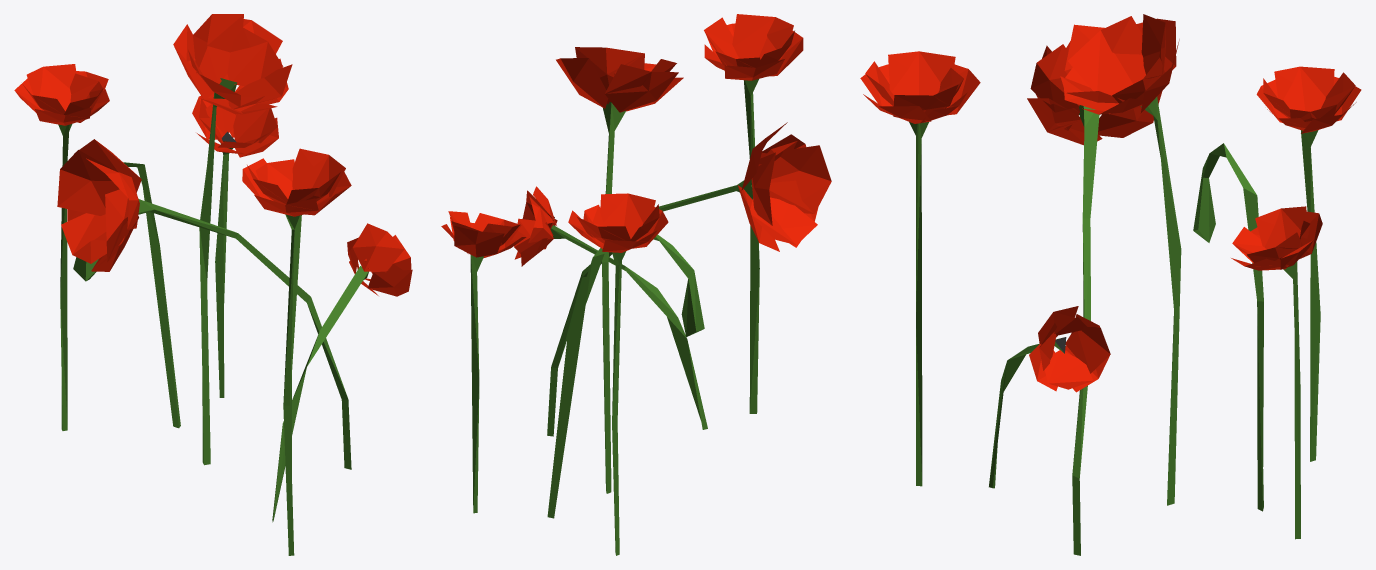
File: SM_Mak_001_LOD1.fbx
The picture shows the model from 3 angles, left to right: view 1: azimuth 30°, elevation 25°; view 2: azimuth 150°, elevation 25°; view 3: azimuth 270°, elevation 25°; orthographic projection. The views are drawn at different scales.
Parts seen in each view (by area): view 1: Mak; view 2: Mak; view 3: Mak.
Boxes of the visible parts, x1,y1,x2,y2 form: Mak: (14, 14, 412, 555); Mak: (441, 14, 831, 555); Mak: (860, 14, 1361, 555).
Size of the model in its own units: 21.69 by 30.01 by 28.19.
